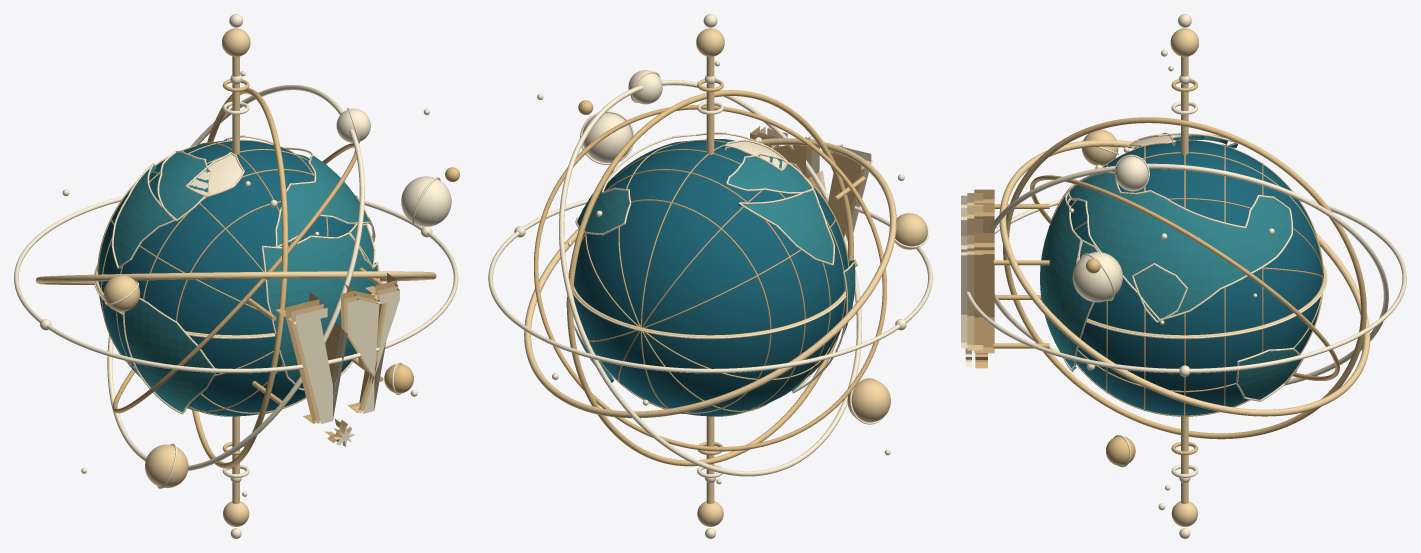
The model's file is webinsolito-hero-v26.glb.
3 renders of one model, left to right at view 1: azimuth 30°, elevation 25°; view 2: azimuth 150°, elevation 25°; view 3: azimuth 270°, elevation 25°, orthographic.
Parts seen in each view (by area): view 1: globe_core, land_africa, logo_W_gold_layer_03, land_south_america, armillary_outer, orbit_ring_03, land_eurasia, orbit_ring_02, orbit_ring_01, land_north_america_south, logo_W_gold_layer_01, land_north_america (+12 smaller); view 2: globe_core, orbit_ring_02, orbit_ring_01, orbit_ring_03, orbit_ring_04, armillary_outer, land_north_america_south, land_north_america, logo_W_gold_layer_01, land_eurasia, planet_02, planet_03 (+14 smaller); view 3: globe_core, land_eurasia, orbit_ring_02, orbit_ring_01, land_africa, orbit_ring_03, armillary_outer, logo_W_gold_layer_01, orbit_ring_04, land_australia, planet_02, land_india (+11 smaller).
Part boxes in pixels (box(x1,y1,x2,y2)): globe_core: box(98, 140, 353, 416); land_africa: box(263, 234, 377, 388); logo_W_gold_layer_03: box(293, 288, 399, 423); land_south_america: box(124, 299, 214, 411); armillary_outer: box(14, 196, 458, 373); orbit_ring_03: box(107, 85, 364, 470); land_eurasia: box(277, 154, 368, 245); orbit_ring_02: box(192, 88, 288, 468); orbit_ring_01: box(36, 271, 436, 284); land_north_america_south: box(113, 165, 173, 268); logo_W_gold_layer_01: box(276, 273, 397, 423); land_north_america: box(159, 152, 209, 218); globe_core: box(573, 140, 847, 416); orbit_ring_02: box(567, 90, 853, 466); orbit_ring_01: box(524, 138, 896, 418); orbit_ring_03: box(559, 80, 861, 476); orbit_ring_04: box(534, 105, 886, 451); armillary_outer: box(488, 198, 932, 373); land_north_america_south: box(738, 190, 832, 265); land_north_america: box(726, 155, 811, 191); logo_W_gold_layer_01: box(750, 126, 871, 237); land_eurasia: box(577, 139, 734, 233); planet_02: box(582, 113, 632, 162); planet_03: box(847, 379, 890, 422); globe_core: box(1069, 140, 1322, 415); land_eurasia: box(1069, 172, 1290, 316); orbit_ring_02: box(1003, 117, 1366, 439); orbit_ring_01: box(999, 140, 1370, 416); land_africa: box(1040, 195, 1092, 370); orbit_ring_03: box(987, 163, 1388, 385); armillary_outer: box(965, 198, 1406, 373); logo_W_gold_layer_01: box(974, 189, 994, 353); orbit_ring_04: box(1030, 175, 1339, 380); land_australia: box(1238, 347, 1301, 399); planet_02: box(1072, 252, 1122, 302); land_india: box(1134, 265, 1185, 320).
Bounding box in the file's own units: 3.94 × 5.05 × 3.9.
